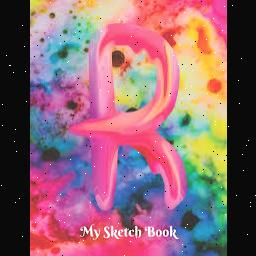b: (144, 224, 156, 240)
m: (78, 222, 94, 238)
r: (66, 19, 194, 213)
s: (102, 225, 110, 239)
